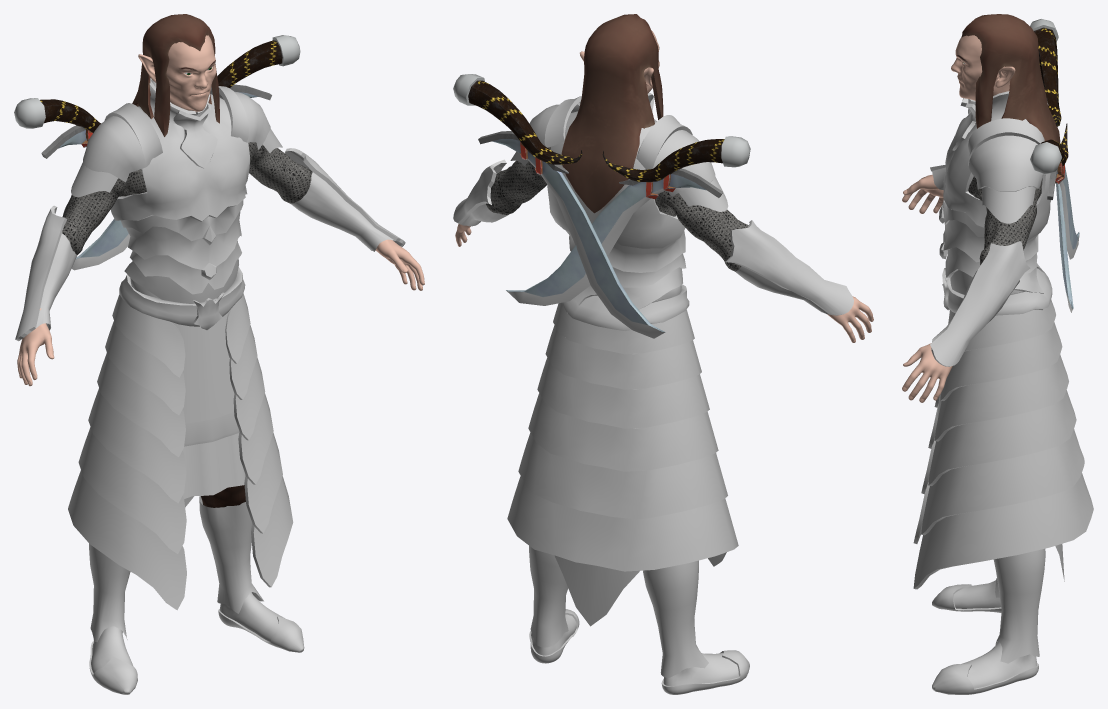
The picture shows the model from 3 angles, left to right: view 1: azimuth 30°, elevation 25°; view 2: azimuth 150°, elevation 25°; view 3: azimuth 270°, elevation 25°; orthographic projection. The views are drawn at different scales.
Parts seen in each view (by area): view 1: Circle, HG_Body.004, HG_Body.002, Cylinder, Cylinder.004, Cylinder.003, Cylinder.002, HG_Body.005, Plane.002, Cylinder.001, HG_Body.003, Plane.004 (+3 smaller); view 2: Circle, Plane.002, Cylinder.003, HG_Body.004, Cylinder, HG_Body.002, Plane.003, Cylinder.004, Plane.007, HG_Body.005, Plane.004, Plane.001 (+2 smaller); view 3: Circle, HG_Body.004, Plane.002, HG_Body.002, Cylinder.004, Cylinder, HG_Body.005, Cylinder.003, Plane.008, HG_Body.003, Plane.004, Plane.007 (+2 smaller).
Boxes of the visible parts, x1,y1,x2,y2 form: Circle: [68, 293, 293, 610]; HG_Body.004: [110, 78, 249, 303]; HG_Body.002: [17, 35, 424, 507]; Cylinder: [15, 148, 405, 341]; Cylinder.004: [71, 86, 282, 197]; Cylinder.003: [89, 496, 263, 642]; Cylinder.002: [171, 312, 239, 446]; HG_Body.005: [89, 592, 304, 694]; Plane.002: [132, 14, 219, 136]; Cylinder.001: [182, 433, 245, 498]; HG_Body.003: [119, 267, 245, 329]; Plane.004: [217, 35, 300, 87]; Circle: [507, 302, 738, 571]; Plane.002: [561, 14, 663, 213]; Cylinder.003: [529, 546, 708, 677]; HG_Body.004: [547, 93, 686, 309]; Cylinder: [453, 159, 853, 315]; HG_Body.002: [455, 30, 873, 342]; Plane.003: [492, 139, 665, 338]; Cylinder.004: [510, 96, 728, 211]; Plane.007: [506, 174, 706, 305]; HG_Body.005: [529, 609, 749, 694]; Plane.004: [453, 74, 582, 164]; Plane.001: [554, 555, 639, 626]; Circle: [913, 299, 1093, 589]; HG_Body.004: [939, 91, 1051, 294]; Plane.002: [962, 14, 1060, 183]; HG_Body.002: [902, 35, 1042, 402]; Cylinder.004: [968, 101, 1048, 223]; Cylinder: [930, 164, 1030, 366]; HG_Body.005: [932, 580, 1038, 694]; Cylinder.003: [993, 548, 1045, 663]; Plane.008: [1030, 19, 1061, 126]; HG_Body.003: [942, 268, 1052, 315]; Plane.004: [1030, 123, 1068, 174]; Plane.007: [1056, 183, 1073, 312].
Bounding box in the file's own units: 1.19 × 1.82 × 0.4986.
